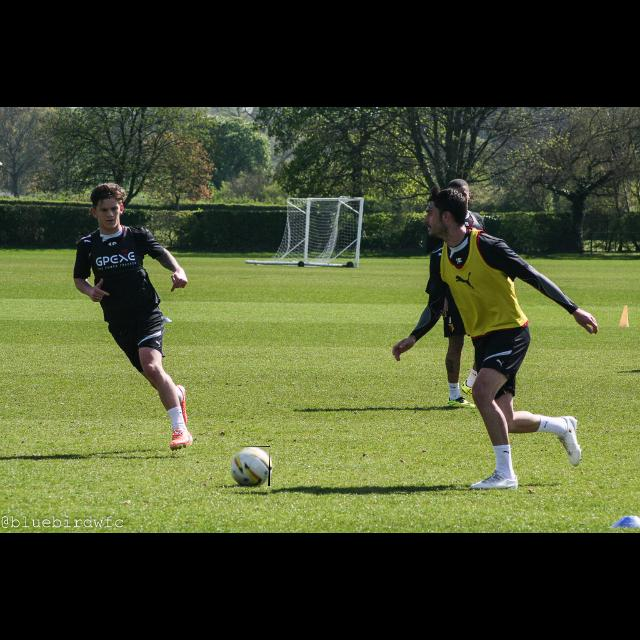Football: (230, 446, 270, 486)
